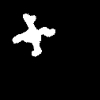single_crochet: (13, 14, 54, 55)
